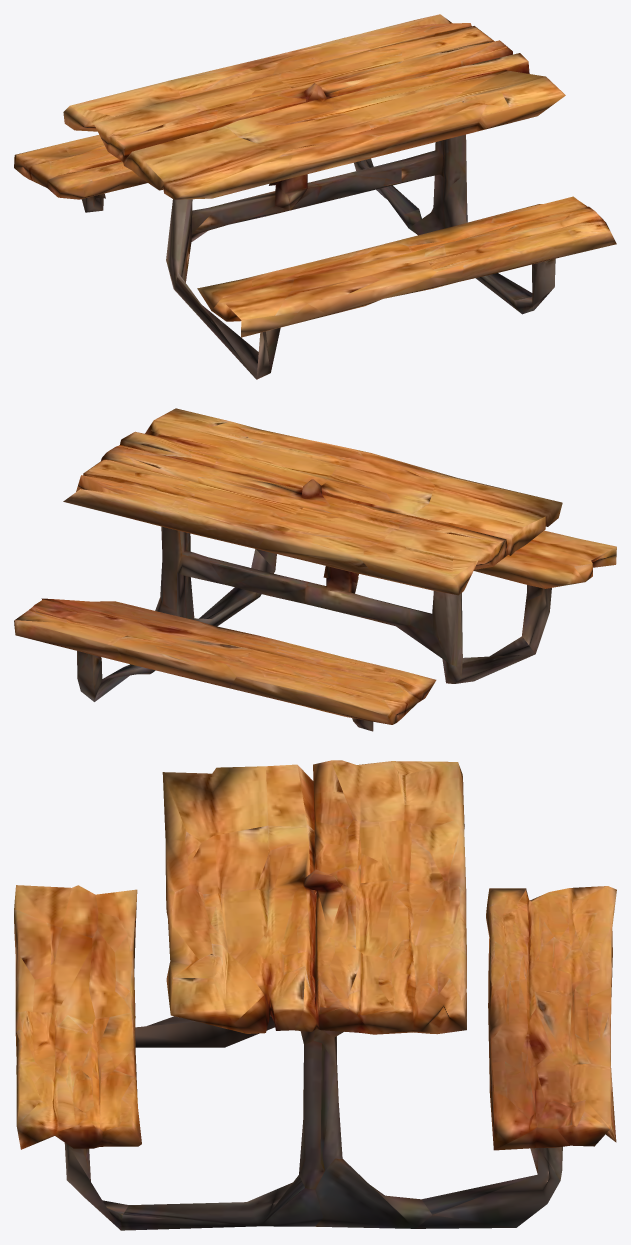
Rendered from park_picnic.glb.
3 views of the same model, one above another, from view 1: azimuth 30°, elevation 25°; view 2: azimuth 150°, elevation 25°; view 3: azimuth 270°, elevation 25° (orthographic). The views are drawn at different scales.
Visible parts, largest first — view 1: tripo_node_de228606-3927-4d96-b96f-a452a702cdc8; view 2: tripo_node_de228606-3927-4d96-b96f-a452a702cdc8; view 3: tripo_node_de228606-3927-4d96-b96f-a452a702cdc8.
Boxes of the visible parts, x1,y1,x2,y2 form: tripo_node_de228606-3927-4d96-b96f-a452a702cdc8: [14, 14, 616, 379]; tripo_node_de228606-3927-4d96-b96f-a452a702cdc8: [14, 408, 616, 731]; tripo_node_de228606-3927-4d96-b96f-a452a702cdc8: [14, 760, 616, 1230].
Size of the model in its own units: 32106 by 15799 by 32009.
Materials: 1 (1 with a texture image).
